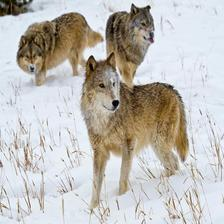WOLF: (83, 54, 183, 175), (16, 25, 82, 79), (107, 4, 159, 68)
